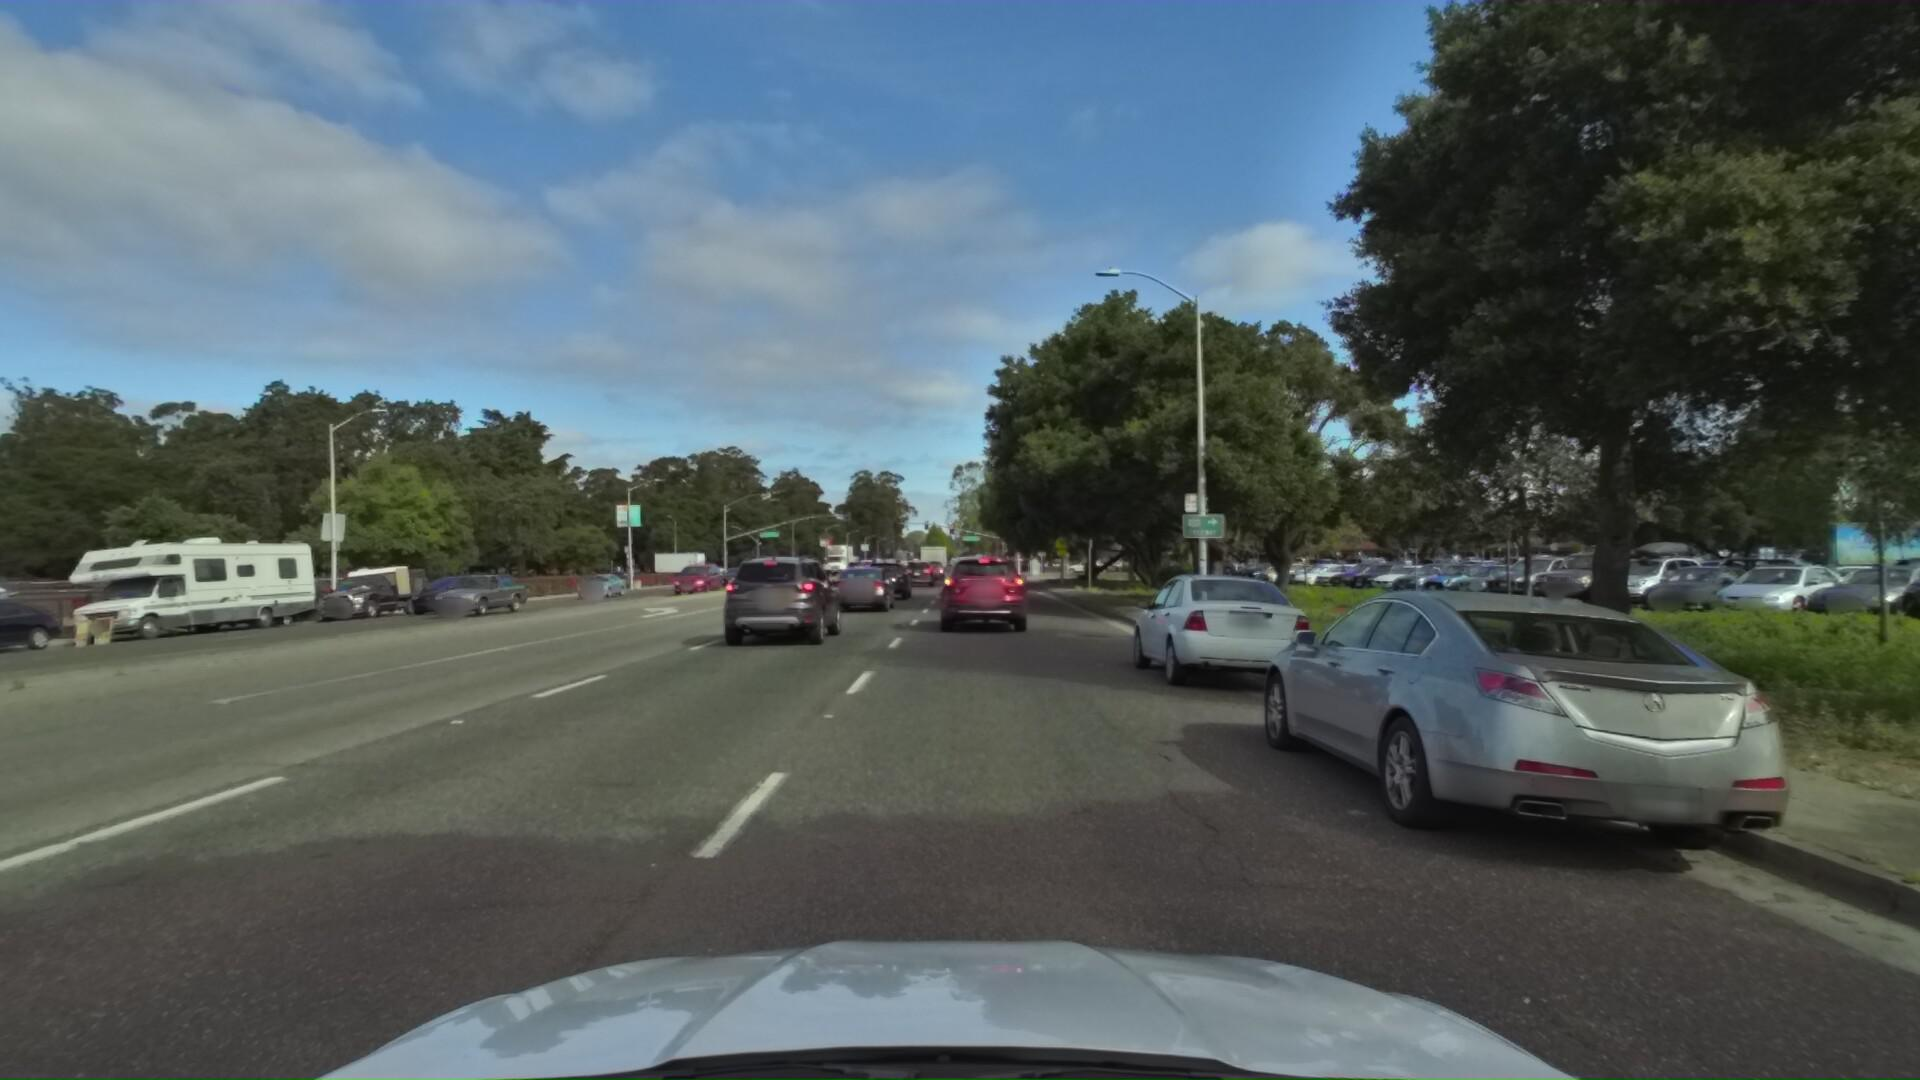car: (1240, 571, 1909, 920), (1125, 566, 1327, 698), (711, 550, 845, 653), (932, 553, 1036, 641), (293, 563, 433, 622), (407, 570, 525, 620), (0, 593, 67, 670), (396, 574, 495, 620), (829, 563, 899, 618), (454, 571, 531, 611), (856, 560, 915, 607), (662, 563, 721, 599), (567, 574, 624, 597), (899, 562, 936, 592), (711, 568, 746, 588)
other_vehicle: (26, 527, 322, 647)
